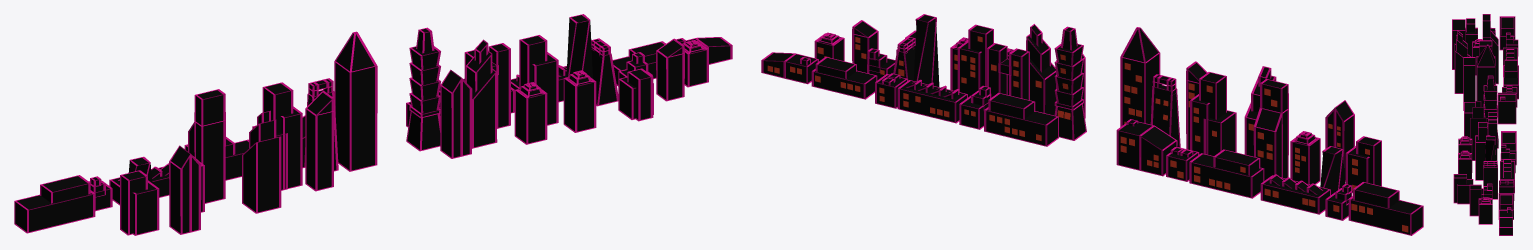
Rendered from 2Sa_new_city_background_one_figure.fbx.
3 renders of one model, left to right at view 1: azimuth 30°, elevation 25°; view 2: azimuth 150°, elevation 25°; view 3: azimuth 270°, elevation 25°, orthographic. The views are drawn at different scales.
Visible parts, largest first — view 1: Cube.057; view 2: Cube.057, Plane.006; view 3: Cube.057.
Boxes of the visible parts, x1,y1,x2,y2 form: Cube.057: (14, 14, 732, 235); Cube.057: (761, 14, 1423, 235); Plane.006: (767, 36, 1408, 232); Cube.057: (1452, 14, 1518, 235).
Bounding box in the file's own units: 13004 × 2313 × 1771.
